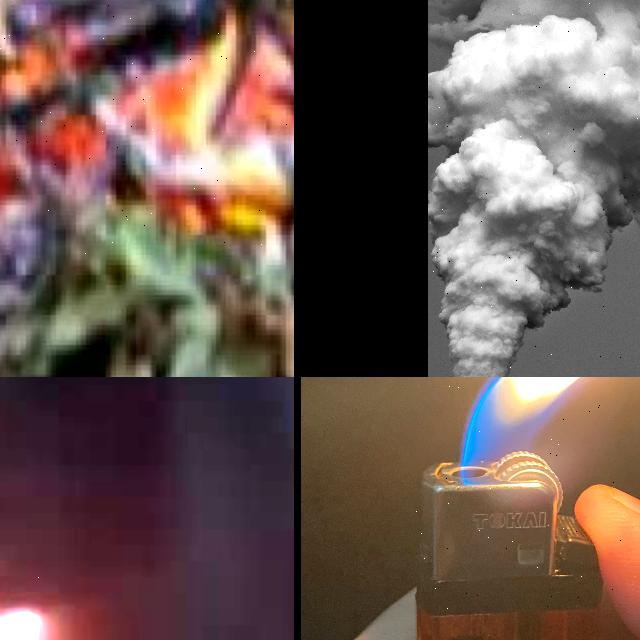fire: (0, 0, 294, 235), (416, 377, 601, 616)
smoke: (428, 0, 640, 377)
